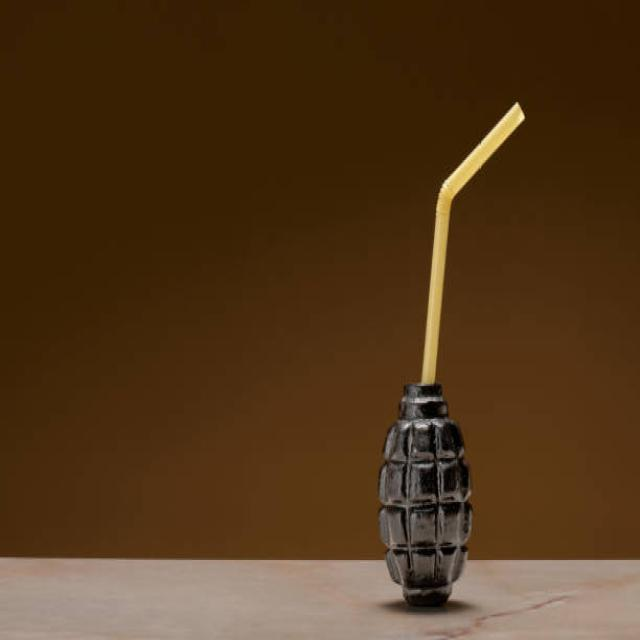grenade: (374, 380, 480, 614)
